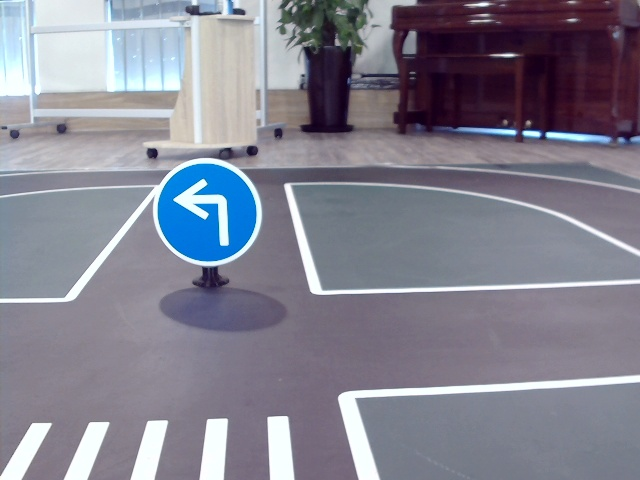turn_left: (174, 178, 236, 246)
